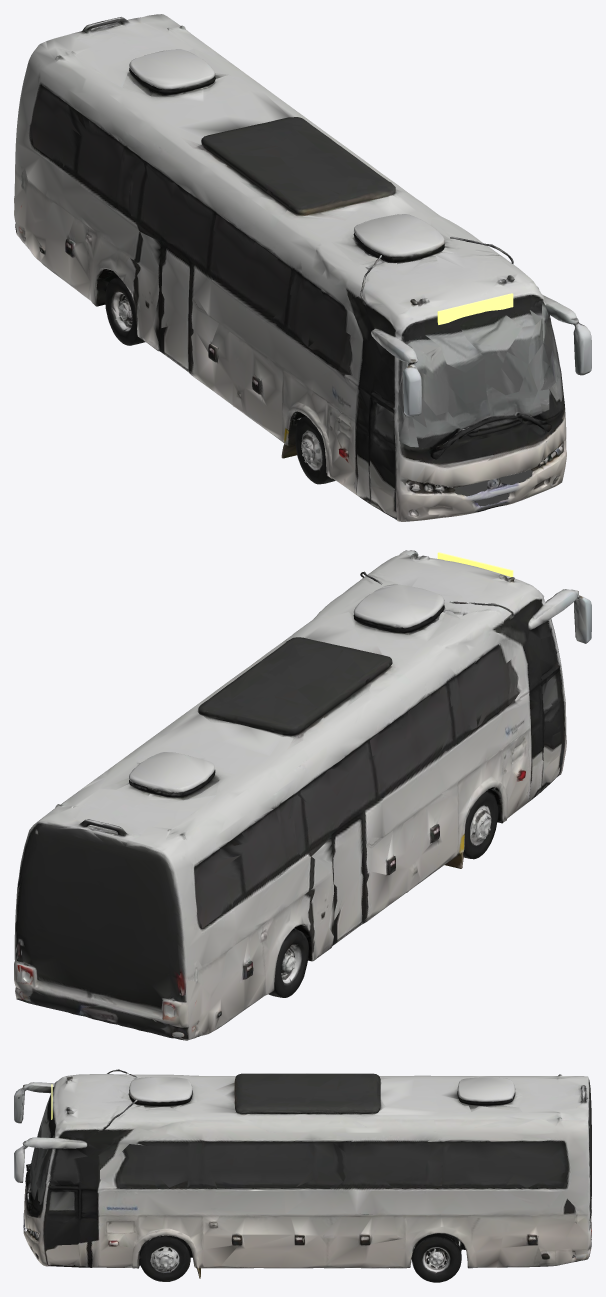
The model's file is coach-b.glb.
The picture shows the model from 3 angles, top to bottom: view 1: azimuth 30°, elevation 25°; view 2: azimuth 150°, elevation 25°; view 3: azimuth 270°, elevation 25°; orthographic projection. The views are drawn at different scales.
Visible parts, largest first — view 1: body, axle_1, axle_0, dest; view 2: body, axle_1, axle_0; view 3: body, axle_1, axle_0.
Part boxes in pixels (box(x1,y1,x2,y2)): body: box(14, 14, 591, 521); axle_1: box(105, 278, 145, 345); axle_0: box(295, 417, 335, 484); dest: box(437, 293, 513, 324); body: box(14, 550, 591, 1040); axle_1: box(268, 930, 312, 997); axle_0: box(463, 791, 498, 859); body: box(14, 1069, 591, 1278); axle_1: box(411, 1234, 461, 1282); axle_0: box(139, 1238, 189, 1281).
Size of the model in its own units: 3.21 by 3.87 by 12.2.
2 materials, 1 textured.
